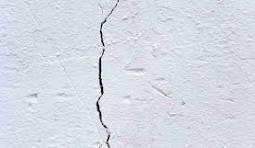Crack: (91, 0, 125, 148)
